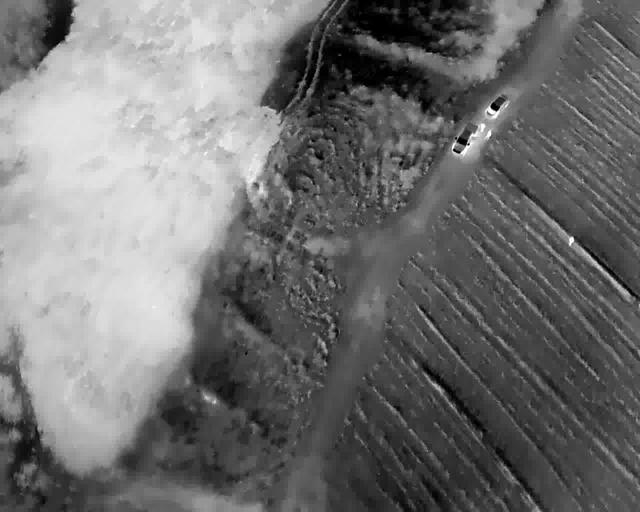car: (457, 120, 471, 155), (489, 91, 503, 120)
person: (486, 128, 492, 142), (567, 236, 574, 246), (479, 122, 484, 132)
